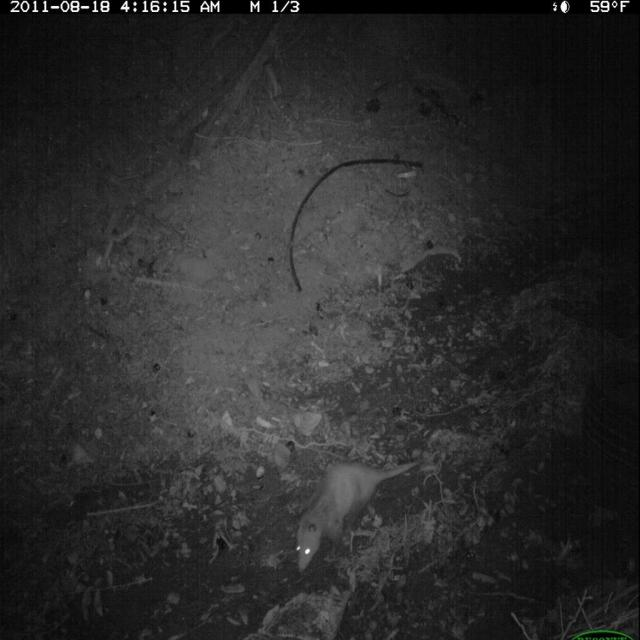opossum: (292, 445, 431, 582)
